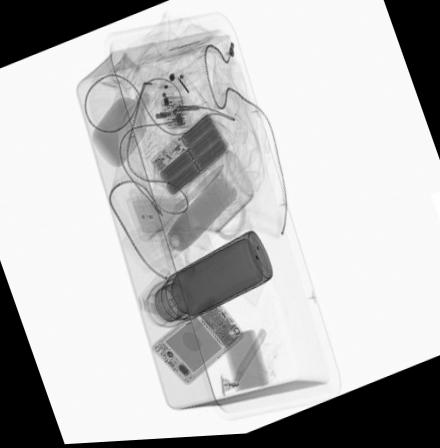Powerbank: (146, 112, 231, 201)
